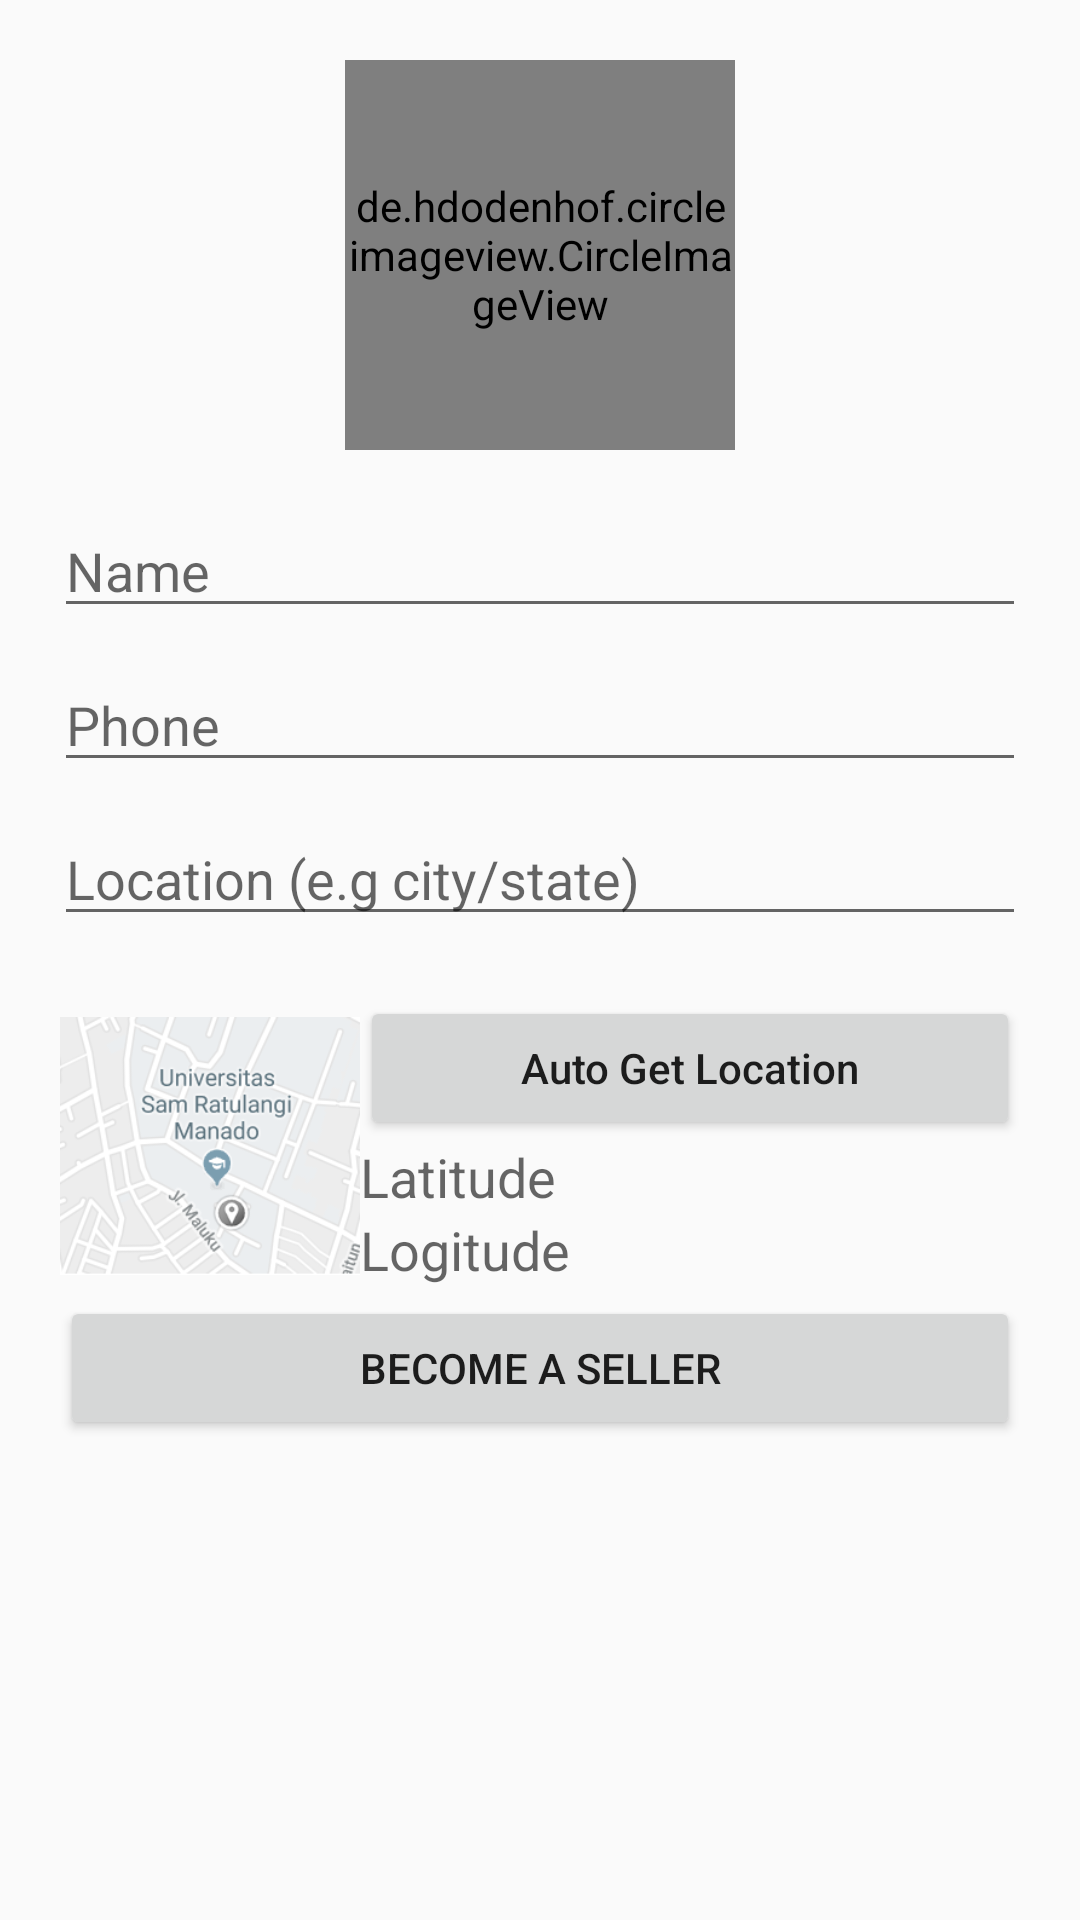

Icon click points for this 1080×1920 phone screenshot, format (x,y):
maps: (210,1145)
